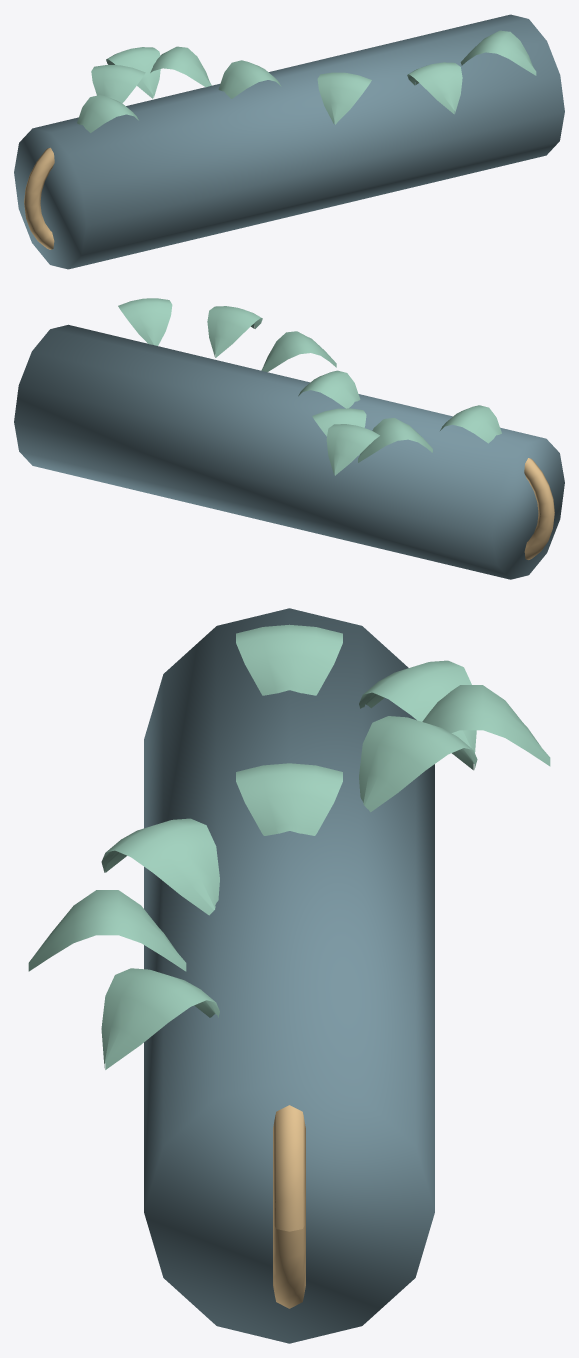
The model's file is scat_fallen_pearl_log.glb.
3 renders of one model, top to bottom at view 1: azimuth 30°, elevation 25°; view 2: azimuth 150°, elevation 25°; view 3: azimuth 270°, elevation 25°, orthographic. The views are drawn at different scales.
Visible parts, largest first — view 1: SCAT_fallen_pearl_log_trunk, SCAT_fallen_pearl_log_mossleaf_5, SCAT_fallen_pearl_log_end_ring_-0.78, SCAT_fallen_pearl_log_mossleaf_6, SCAT_fallen_pearl_log_mossleaf_1, SCAT_fallen_pearl_log_mossleaf_2, SCAT_fallen_pearl_log_mossleaf_7, SCAT_fallen_pearl_log_mossleaf_4, SCAT_fallen_pearl_log_mossleaf_0, SCAT_fallen_pearl_log_mossleaf_3; view 2: SCAT_fallen_pearl_log_trunk, SCAT_fallen_pearl_log_end_ring_-0.78, SCAT_fallen_pearl_log_mossleaf_7, SCAT_fallen_pearl_log_mossleaf_6, SCAT_fallen_pearl_log_mossleaf_2, SCAT_fallen_pearl_log_mossleaf_5, SCAT_fallen_pearl_log_mossleaf_4, SCAT_fallen_pearl_log_mossleaf_1, SCAT_fallen_pearl_log_mossleaf_0, SCAT_fallen_pearl_log_mossleaf_3; view 3: SCAT_fallen_pearl_log_trunk, SCAT_fallen_pearl_log_end_ring_0.78, SCAT_fallen_pearl_log_mossleaf_7, SCAT_fallen_pearl_log_mossleaf_5, SCAT_fallen_pearl_log_mossleaf_3, SCAT_fallen_pearl_log_mossleaf_4, SCAT_fallen_pearl_log_mossleaf_0, SCAT_fallen_pearl_log_mossleaf_6, SCAT_fallen_pearl_log_mossleaf_2, SCAT_fallen_pearl_log_mossleaf_1.
Boxes of the visible parts, bbox=[...] form: SCAT_fallen_pearl_log_trunk: bbox=[14, 14, 564, 269]; SCAT_fallen_pearl_log_mossleaf_5: bbox=[317, 72, 371, 124]; SCAT_fallen_pearl_log_end_ring_-0.78: bbox=[24, 147, 54, 249]; SCAT_fallen_pearl_log_mossleaf_6: bbox=[407, 62, 462, 114]; SCAT_fallen_pearl_log_mossleaf_1: bbox=[91, 65, 145, 103]; SCAT_fallen_pearl_log_mossleaf_2: bbox=[106, 47, 160, 98]; SCAT_fallen_pearl_log_mossleaf_7: bbox=[460, 30, 536, 75]; SCAT_fallen_pearl_log_mossleaf_4: bbox=[218, 60, 281, 98]; SCAT_fallen_pearl_log_mossleaf_0: bbox=[77, 95, 138, 132]; SCAT_fallen_pearl_log_mossleaf_3: bbox=[150, 46, 211, 87]; SCAT_fallen_pearl_log_trunk: bbox=[14, 324, 564, 579]; SCAT_fallen_pearl_log_end_ring_-0.78: bbox=[524, 458, 554, 559]; SCAT_fallen_pearl_log_mossleaf_7: bbox=[118, 298, 172, 345]; SCAT_fallen_pearl_log_mossleaf_6: bbox=[207, 306, 262, 357]; SCAT_fallen_pearl_log_mossleaf_2: bbox=[326, 424, 379, 475]; SCAT_fallen_pearl_log_mossleaf_5: bbox=[261, 331, 336, 372]; SCAT_fallen_pearl_log_mossleaf_4: bbox=[298, 370, 360, 408]; SCAT_fallen_pearl_log_mossleaf_1: bbox=[358, 418, 432, 462]; SCAT_fallen_pearl_log_mossleaf_0: bbox=[440, 405, 501, 443]; SCAT_fallen_pearl_log_mossleaf_3: bbox=[312, 408, 366, 436]; SCAT_fallen_pearl_log_trunk: bbox=[144, 608, 434, 1343]; SCAT_fallen_pearl_log_end_ring_0.78: bbox=[273, 1105, 305, 1308]; SCAT_fallen_pearl_log_mossleaf_7: bbox=[101, 968, 219, 1069]; SCAT_fallen_pearl_log_mossleaf_5: bbox=[101, 818, 219, 915]; SCAT_fallen_pearl_log_mossleaf_3: bbox=[359, 716, 477, 812]; SCAT_fallen_pearl_log_mossleaf_4: bbox=[236, 763, 342, 835]; SCAT_fallen_pearl_log_mossleaf_0: bbox=[236, 624, 342, 695]; SCAT_fallen_pearl_log_mossleaf_6: bbox=[28, 890, 186, 971]; SCAT_fallen_pearl_log_mossleaf_2: bbox=[422, 685, 550, 766]; SCAT_fallen_pearl_log_mossleaf_1: bbox=[359, 660, 476, 752].
Bounding box in the file's own units: 2.02 × 0.5532 × 0.86.
